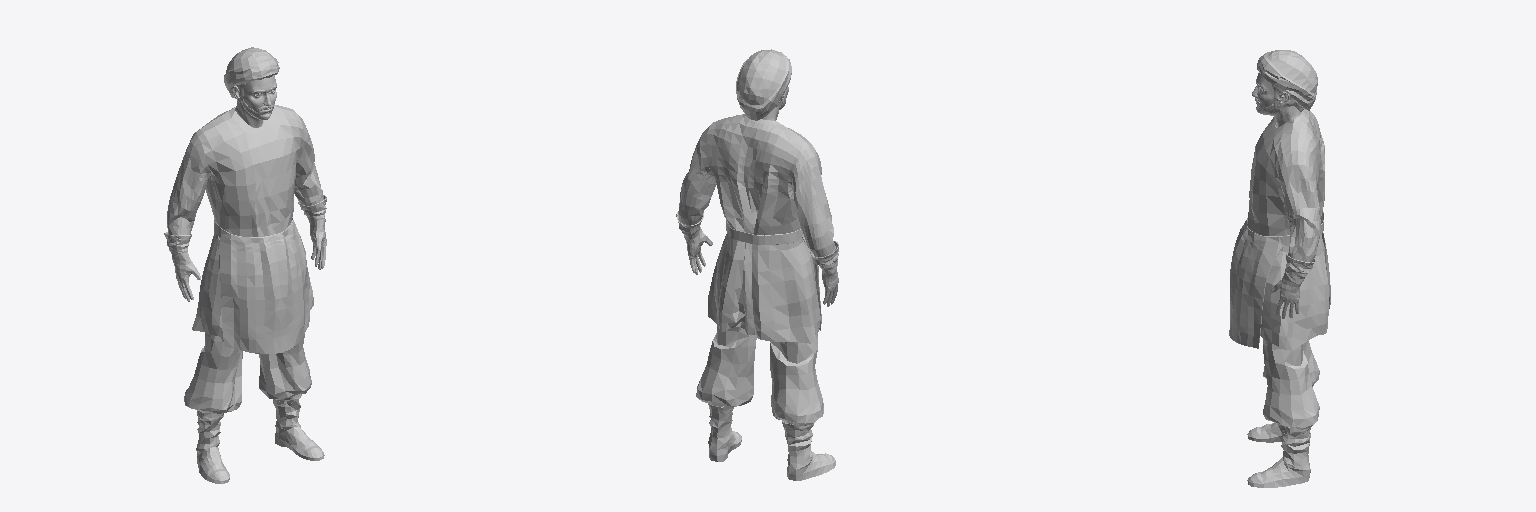
Rendered from firinci.obj.
3 renders of one model, left to right at view 1: azimuth 30°, elevation 25°; view 2: azimuth 150°, elevation 25°; view 3: azimuth 270°, elevation 25°, orthographic.
Visible parts, largest first — view 1: cloth_low, ortu_low, pants_low, boots_low, gloves_low, sapka_low, XYZ_headEyesOpen_GEO1; view 2: cloth_low, pants_low, boots_low, sapka_low, gloves_low, ortu_low; view 3: cloth_low, ortu_low, pants_low, boots_low, sapka_low, gloves_low, XYZ_headEyesOpen_GEO1.
Boxes of the visible parts, <box> form: cloth_low: <box>167,104,323,336</box>; ortu_low: <box>214,217,309,353</box>; pants_low: <box>184,331,311,413</box>; boots_low: <box>196,394,324,483</box>; gloves_low: <box>164,195,326,301</box>; sapka_low: <box>224,47,279,98</box>; XYZ_headEyesOpen_GEO1: <box>232,75,276,127</box>; cloth_low: <box>678,114,835,343</box>; pants_low: <box>696,325,823,425</box>; boots_low: <box>708,404,835,480</box>; sapka_low: <box>736,49,791,120</box>; gloves_low: <box>676,212,838,306</box>; ortu_low: <box>726,220,821,330</box>; cloth_low: <box>1247,109,1330,350</box>; ortu_low: <box>1229,212,1323,348</box>; pants_low: <box>1263,339,1319,429</box>; boots_low: <box>1247,423,1310,487</box>; sapka_low: <box>1257,50,1317,110</box>; gloves_low: <box>1271,253,1315,318</box>; XYZ_headEyesOpen_GEO1: <box>1252,73,1300,126</box>.
Bounding box in the file's own units: 7.11 × 17.49 × 3.94.